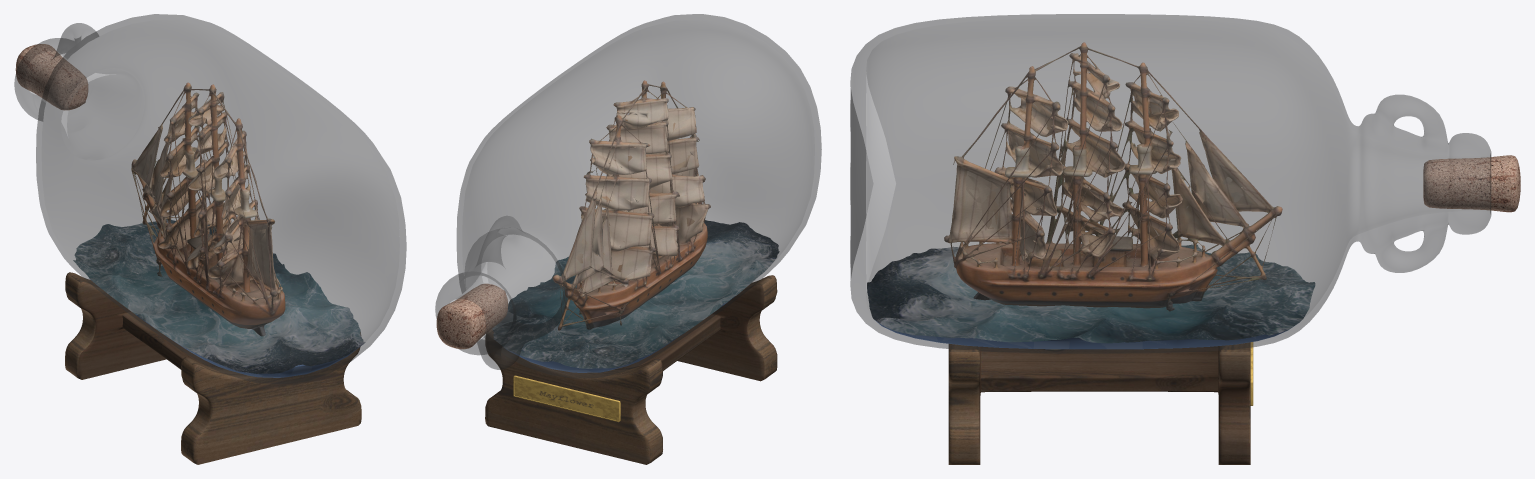
File: ship_in_a_bottle.glb
3 views of the same model, side by side, from view 1: azimuth 30°, elevation 25°; view 2: azimuth 150°, elevation 25°; view 3: azimuth 270°, elevation 25° (orthographic). The views are drawn at different scales.
Parts seen in each view (by area): view 1: bottle_export, boat_export, support_export, sea, cap_export, bottle_export.001; view 2: bottle_export, boat_export, support_export, sea, cap_export, plaque_export; view 3: bottle_export, boat_export, sea, support_export, cap_export, bottle_export.001.
Boxes of the visible parts, x1=… form: bottle_export: x1=14, y1=14, x2=406, y2=384; boat_export: x1=131, y1=82, x2=285, y2=336; support_export: x1=65, y1=272, x2=361, y2=464; sea: x1=73, y1=219, x2=365, y2=377; cap_export: x1=15, y1=44, x2=88, y2=110; bottle_export.001: x1=61, y1=72, x2=116, y2=138; bottle_export: x1=435, y1=14, x2=821, y2=378; boat_export: x1=552, y1=80, x2=710, y2=330; support_export: x1=485, y1=275, x2=777, y2=464; sea: x1=492, y1=220, x2=779, y2=372; cap_export: x1=436, y1=283, x2=508, y2=349; plaque_export: x1=513, y1=375, x2=620, y2=422; bottle_export: x1=850, y1=14, x2=1491, y2=353; boat_export: x1=944, y1=42, x2=1282, y2=311; sea: x1=867, y1=243, x2=1315, y2=349; support_export: x1=948, y1=342, x2=1250, y2=464; cap_export: x1=1423, y1=155, x2=1520, y2=212; bottle_export.001: x1=866, y1=72, x2=896, y2=295.
Size of the model in its own units: 1.4 by 2.14 by 3.35.
8 materials, 5 textured.
